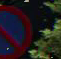No waiting: (1, 4, 39, 57)
